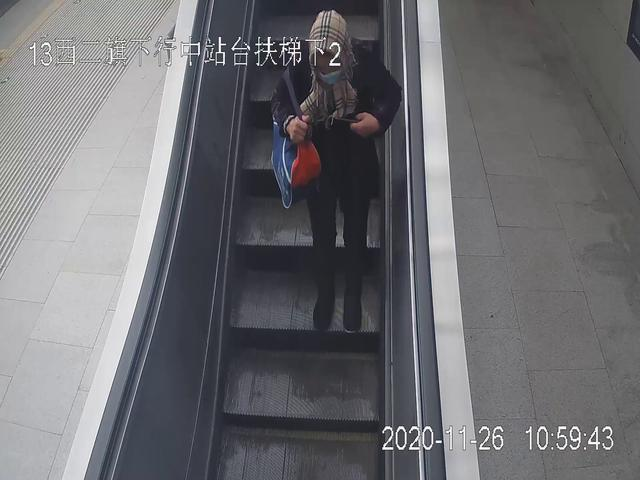person: (272, 9, 401, 330)
